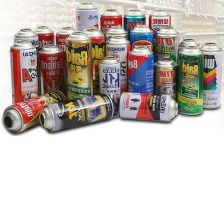aerosol_cans: (37, 89, 116, 134), (1, 86, 69, 137), (7, 37, 41, 116), (62, 27, 95, 106), (34, 40, 69, 110), (176, 43, 206, 119), (115, 90, 182, 124), (11, 26, 41, 100), (71, 1, 101, 75), (174, 33, 204, 105), (30, 21, 56, 101), (124, 42, 155, 108), (146, 7, 174, 79), (54, 24, 79, 103), (103, 32, 132, 100), (197, 38, 223, 111), (98, 5, 124, 74), (95, 53, 124, 113), (128, 21, 155, 84), (123, 5, 147, 72), (151, 54, 180, 109), (153, 24, 180, 83)
